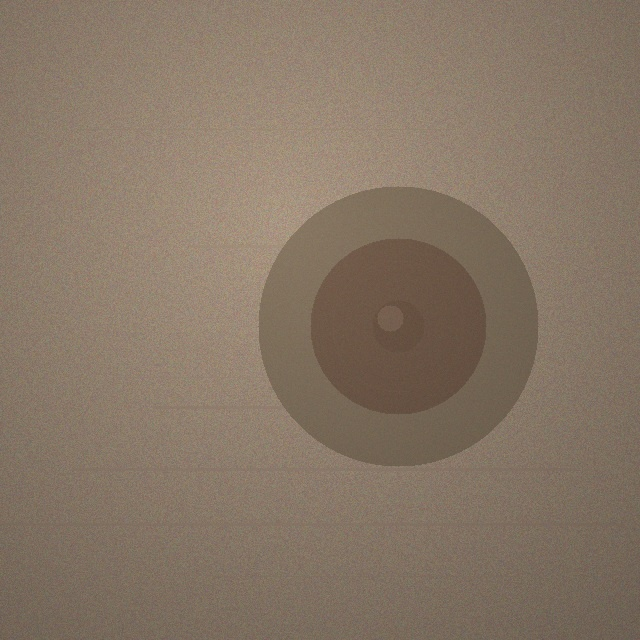good: (258, 186, 538, 466)
